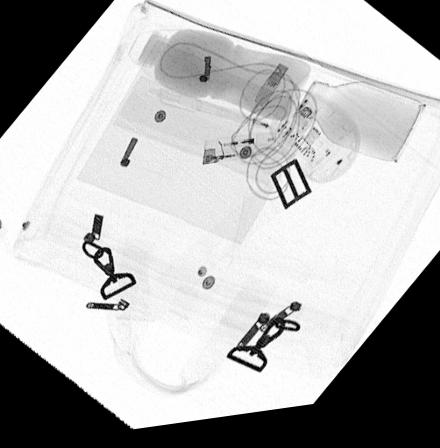Lighter: (201, 139, 275, 171)
